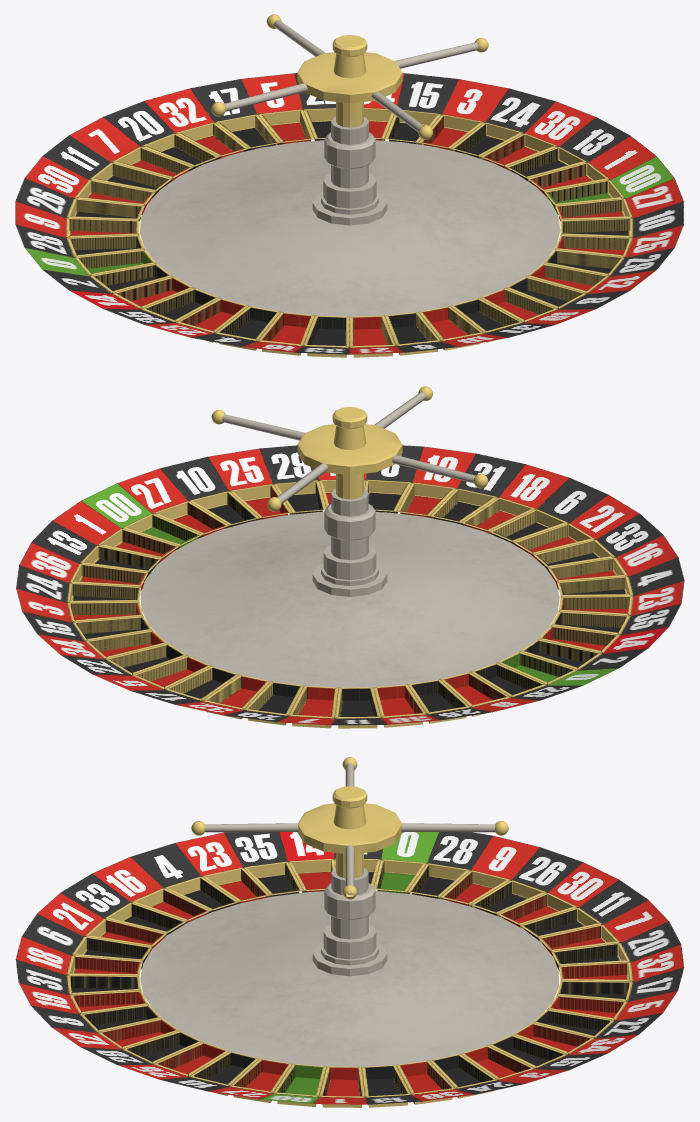
Rendered from MES_RouletteTable_Wheel_American.fbx.
The picture shows the model from 3 angles, top to bottom: view 1: azimuth 30°, elevation 25°; view 2: azimuth 150°, elevation 25°; view 3: azimuth 270°, elevation 25°; orthographic projection.
Parts seen in each view (by area): view 1: MES_Wheel_American; view 2: MES_Wheel_American; view 3: MES_Wheel_American.
Boxes of the visible parts, <box> form: MES_Wheel_American: <box>15,14,683,357</box>; MES_Wheel_American: <box>16,386,684,728</box>; MES_Wheel_American: <box>15,757,684,1107</box>.
Size of the model in its own units: 890 by 289 by 891.
